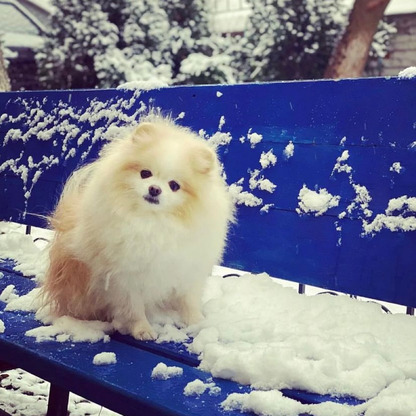Pomeranian: (37, 99, 252, 355)
